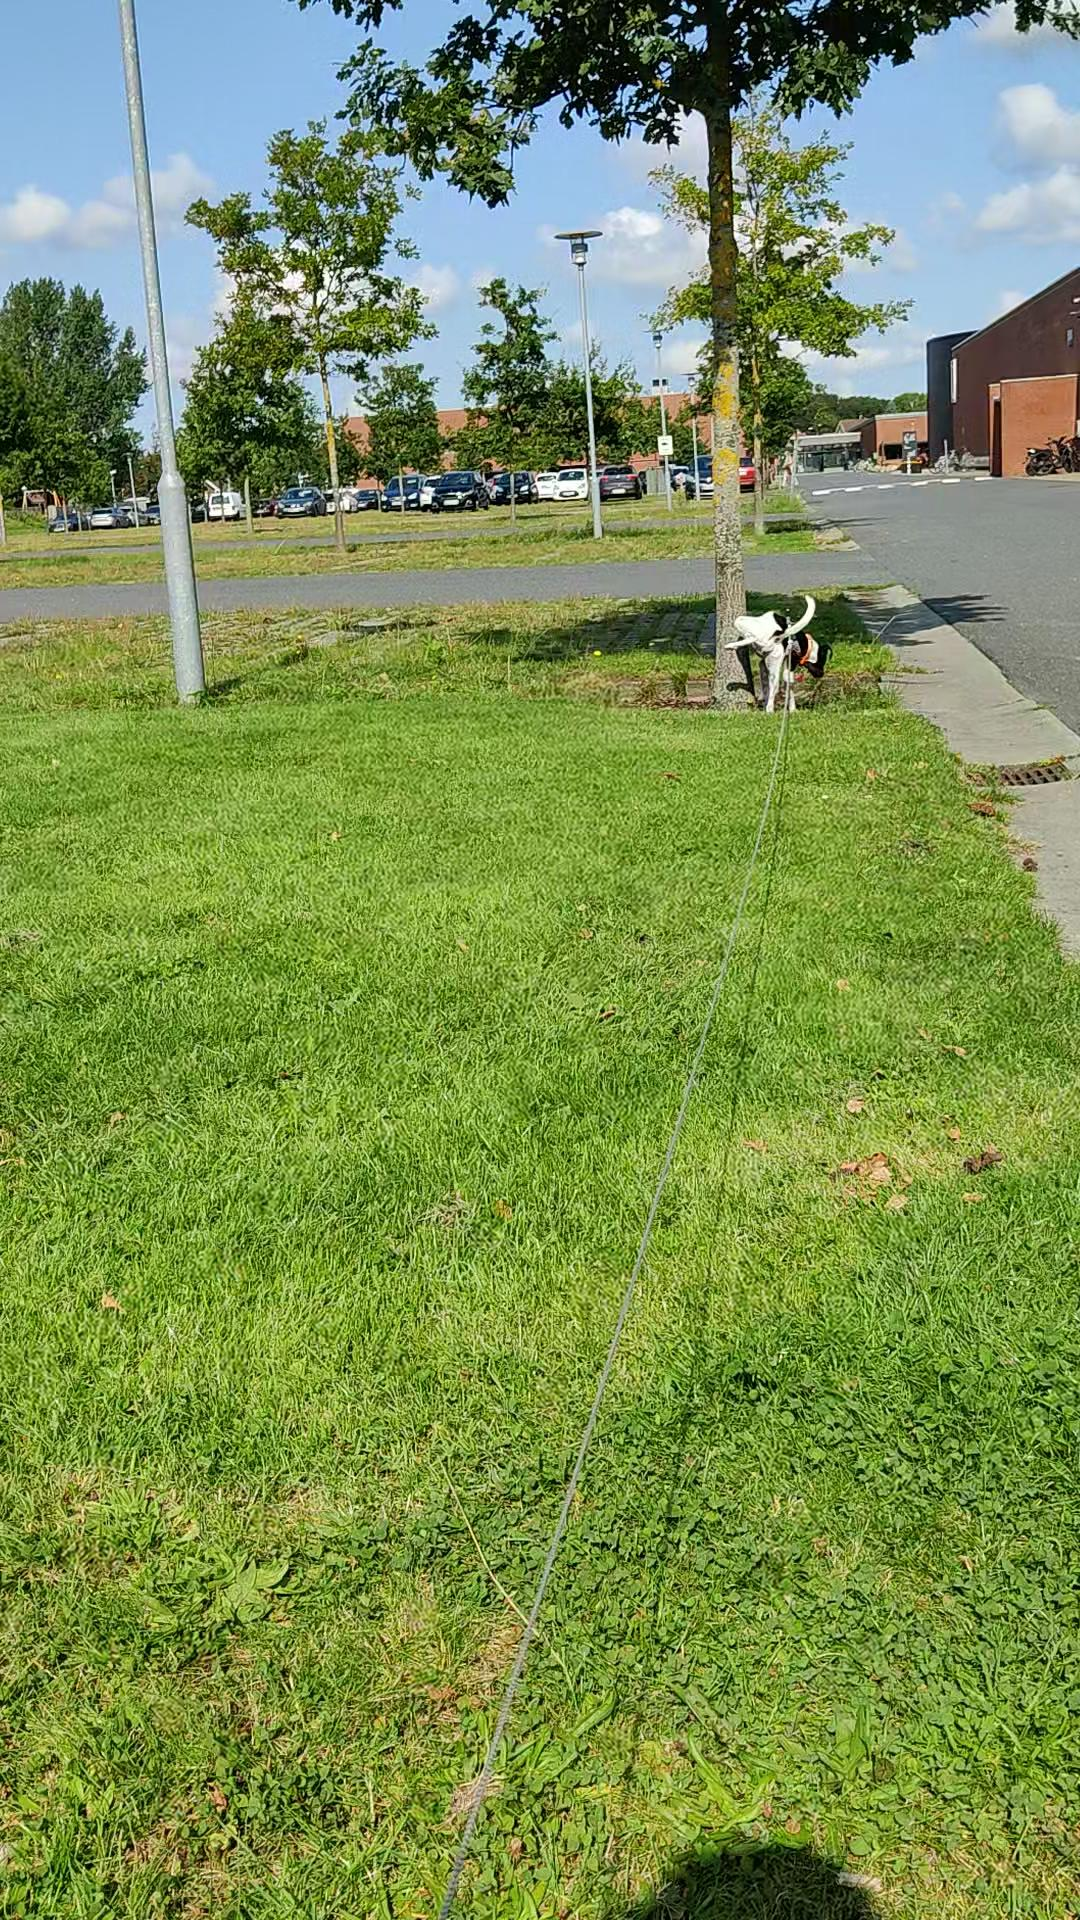Dog: (723, 583, 840, 723)
